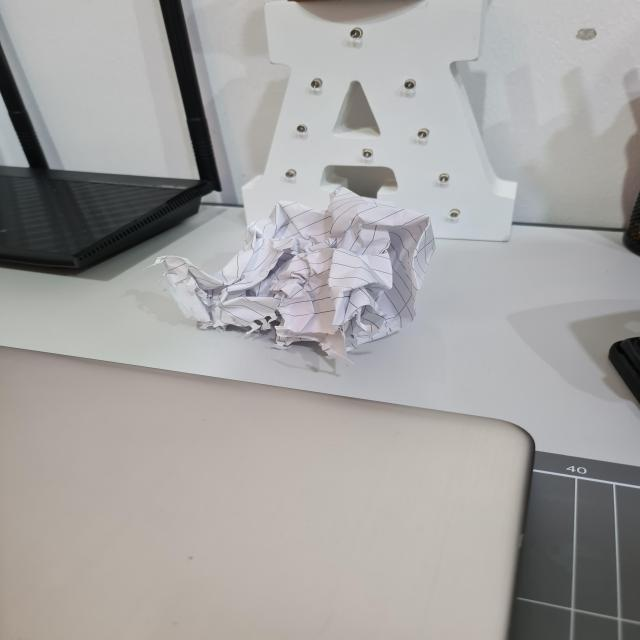trash: (159, 194, 439, 346)
